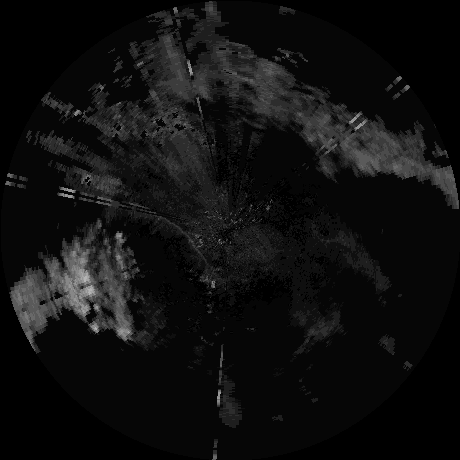frontgust: (118, 208, 213, 273)
